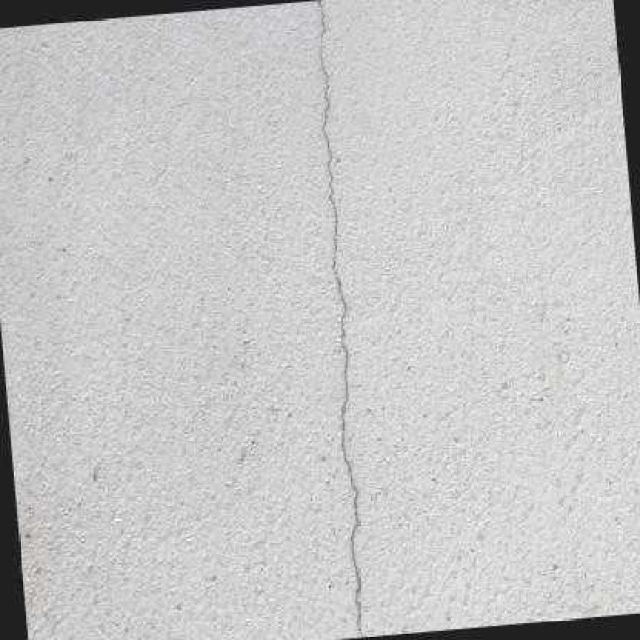D00: (316, 0, 364, 638)
